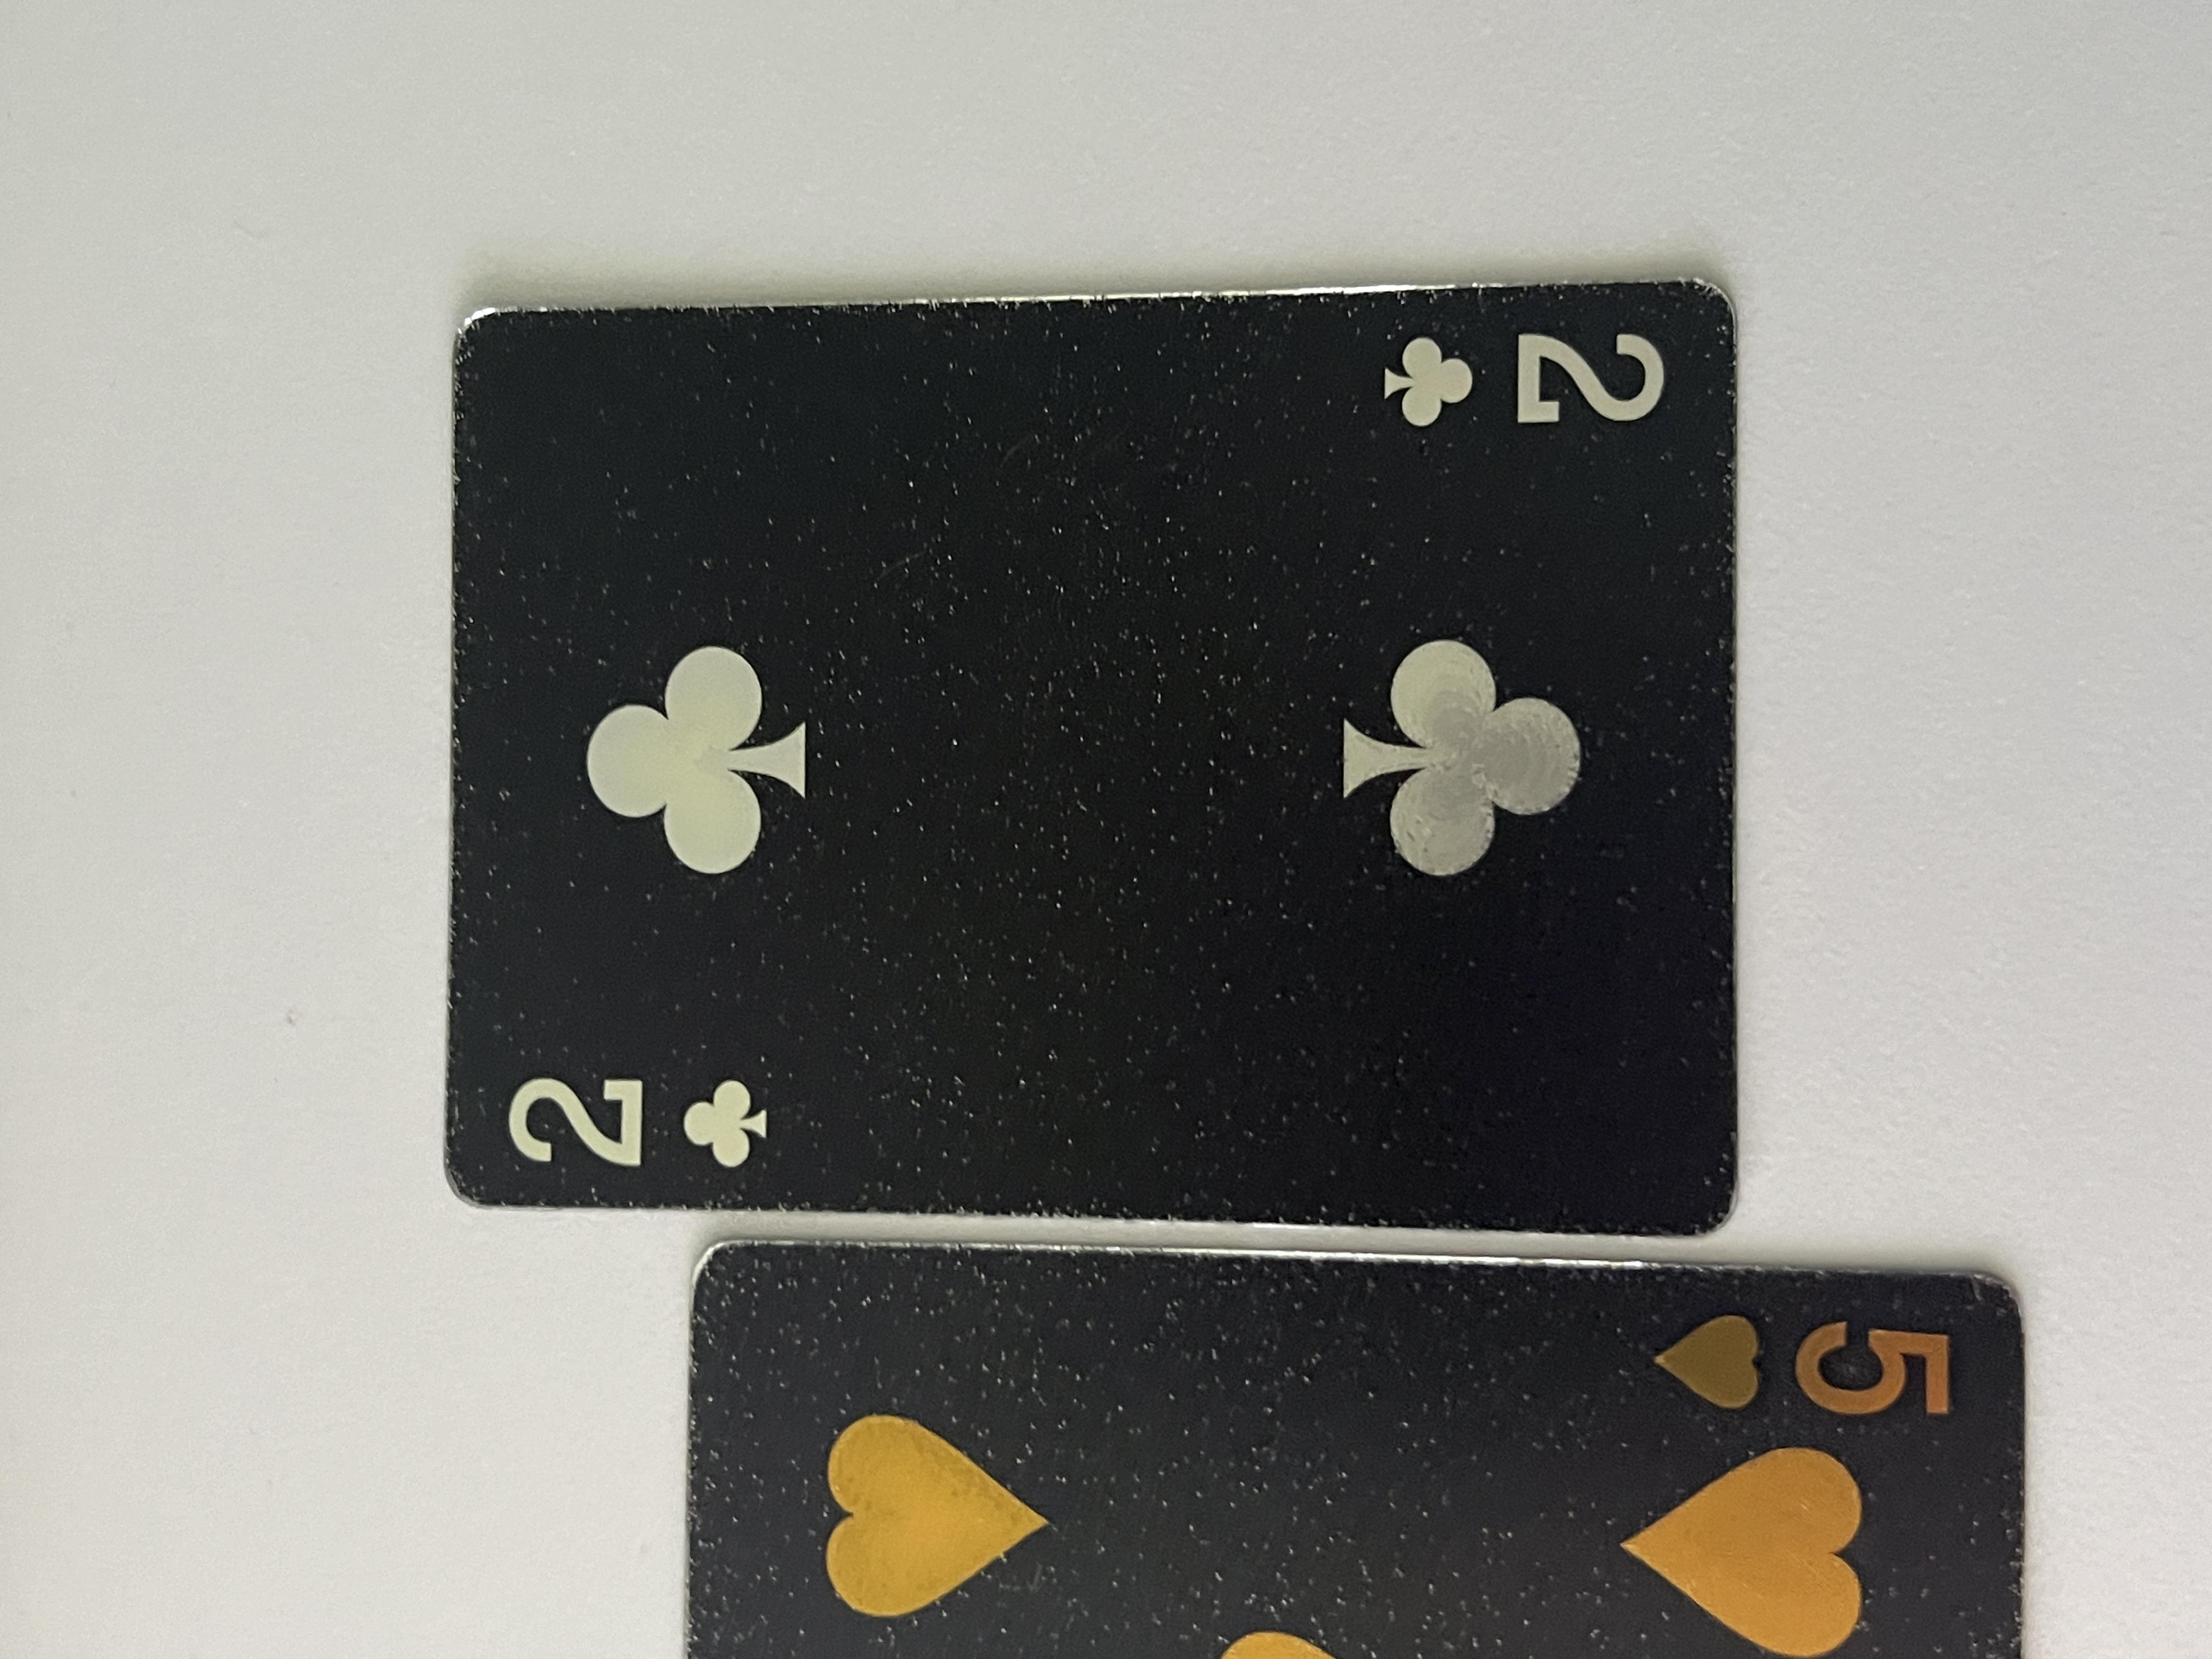2C: (1613, 1025, 1803, 1279), (622, 376, 819, 596)
5H: (307, 1237, 475, 1480)
